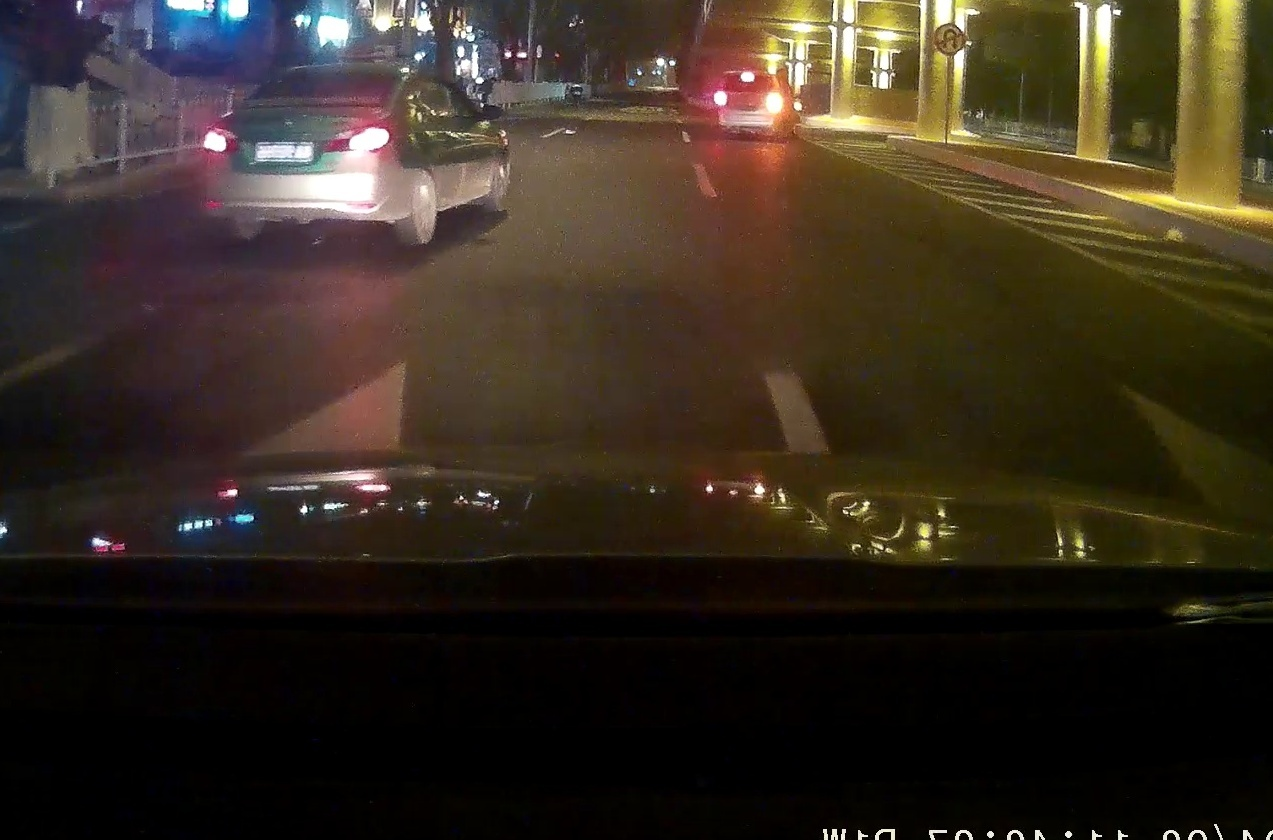L_light: (202, 127, 240, 154), (714, 91, 727, 105)
R_light: (326, 116, 394, 152), (765, 92, 782, 113)
T_light: (327, 70, 351, 77), (740, 72, 754, 81)
night-no: (202, 62, 398, 244)
night-right: (714, 70, 782, 139)
